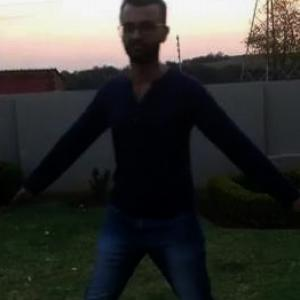land: (32, 7, 284, 299)
